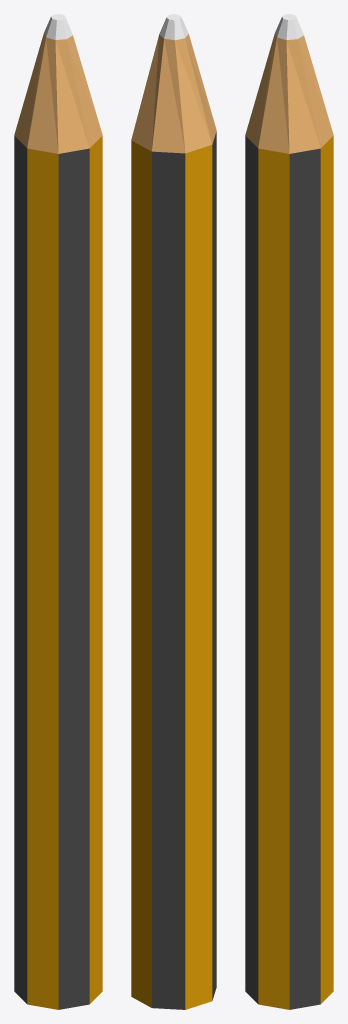
Rendered from карандаш.obj.
3 views of the same model, side by side, from view 1: azimuth 90°, elevation 25°; view 2: azimuth 150°, elevation 25°; view 3: azimuth 270°, elevation 25° (orthographic).
Parts seen in each view (by area): view 1: pencil; view 2: pencil; view 3: pencil.
Part boxes in pixels (x1,y1,x2,y2): pencil: (14, 14, 102, 1009); pencil: (131, 14, 216, 1009); pencil: (245, 14, 333, 1009).
Bounding box in the file's own units: 1.08 × 13.11 × 1.08.
